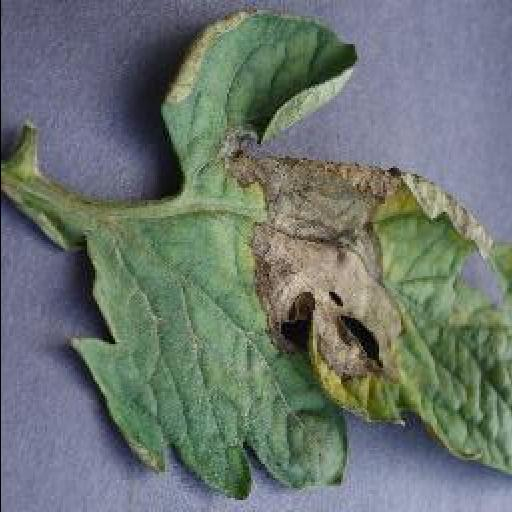disease_tomato: (68, 8, 512, 498)
